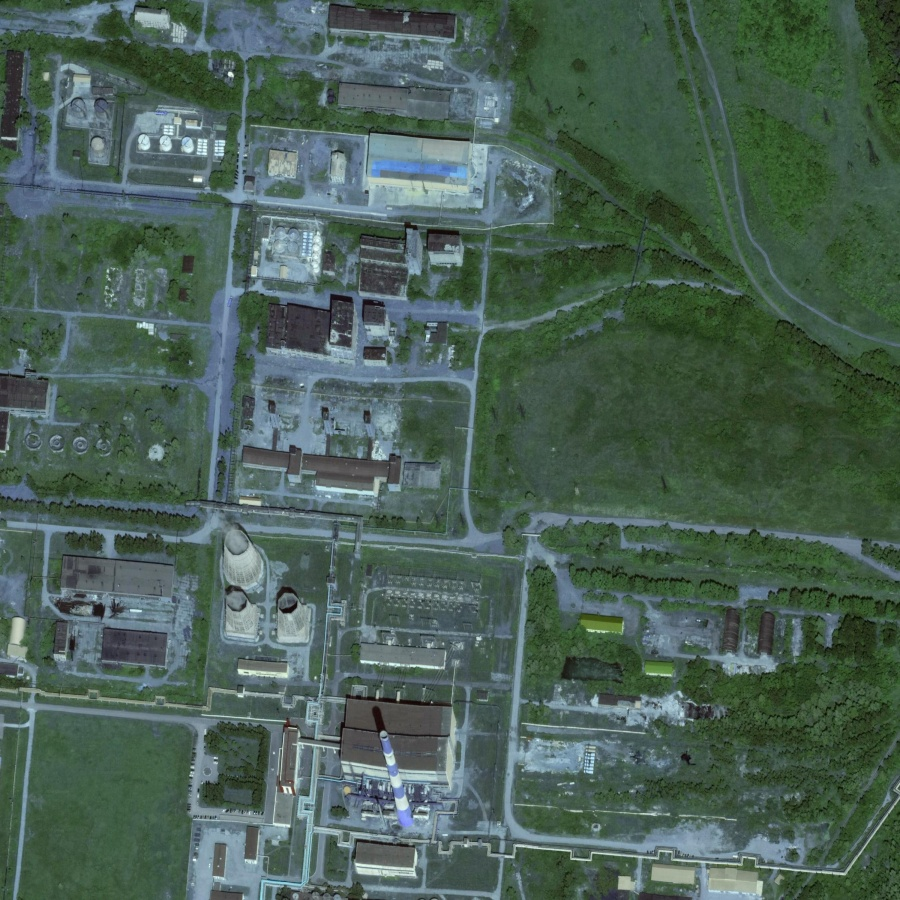PowerPlant: (194, 519, 487, 878)
